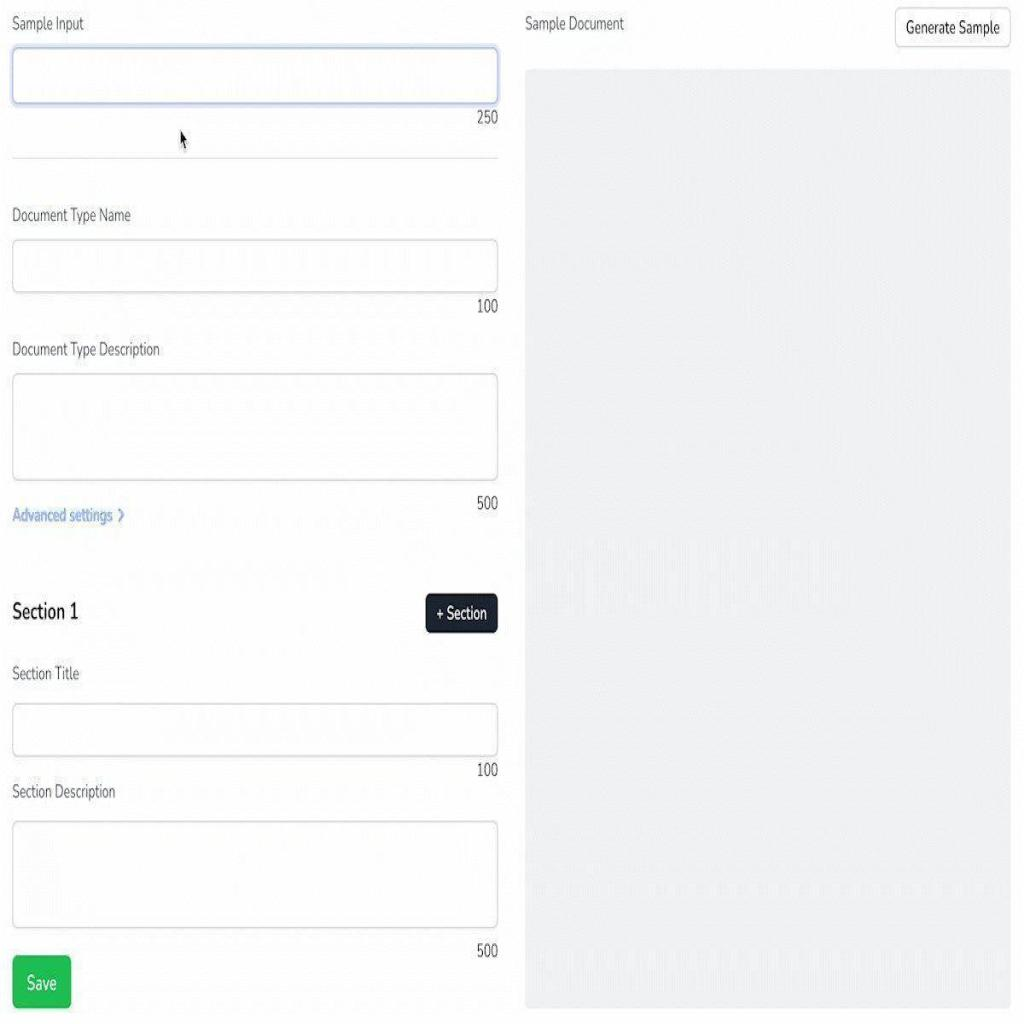button: (897, 9, 1013, 46), (12, 954, 73, 1010), (426, 593, 498, 633)
input: (9, 46, 497, 105), (10, 240, 497, 298), (14, 703, 501, 756)
label: (4, 191, 150, 233), (10, 331, 167, 364), (9, 497, 128, 531), (10, 778, 115, 804), (522, 12, 630, 37), (10, 598, 84, 628), (7, 12, 88, 37), (10, 663, 84, 687)
